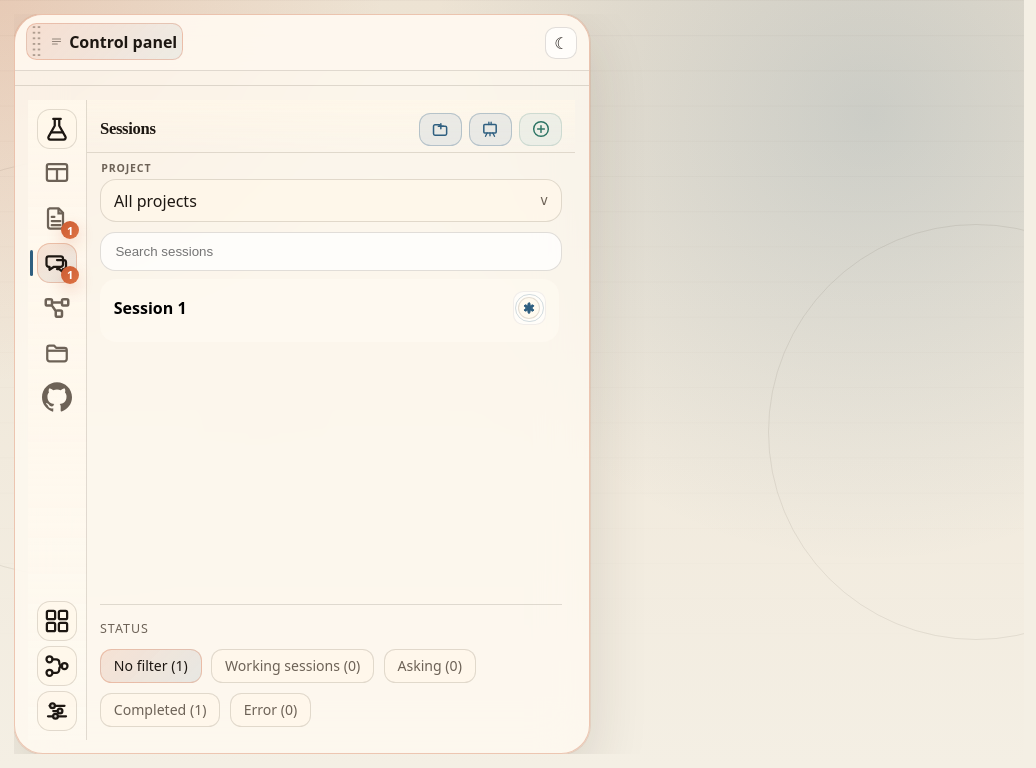
Test: App session lifecycle › arms the active-prompt poll and adopts a replacement-instance recovery state when a successful send response is stale
Click the button "Session 1" at (150, 308), box [100,279,559,342]
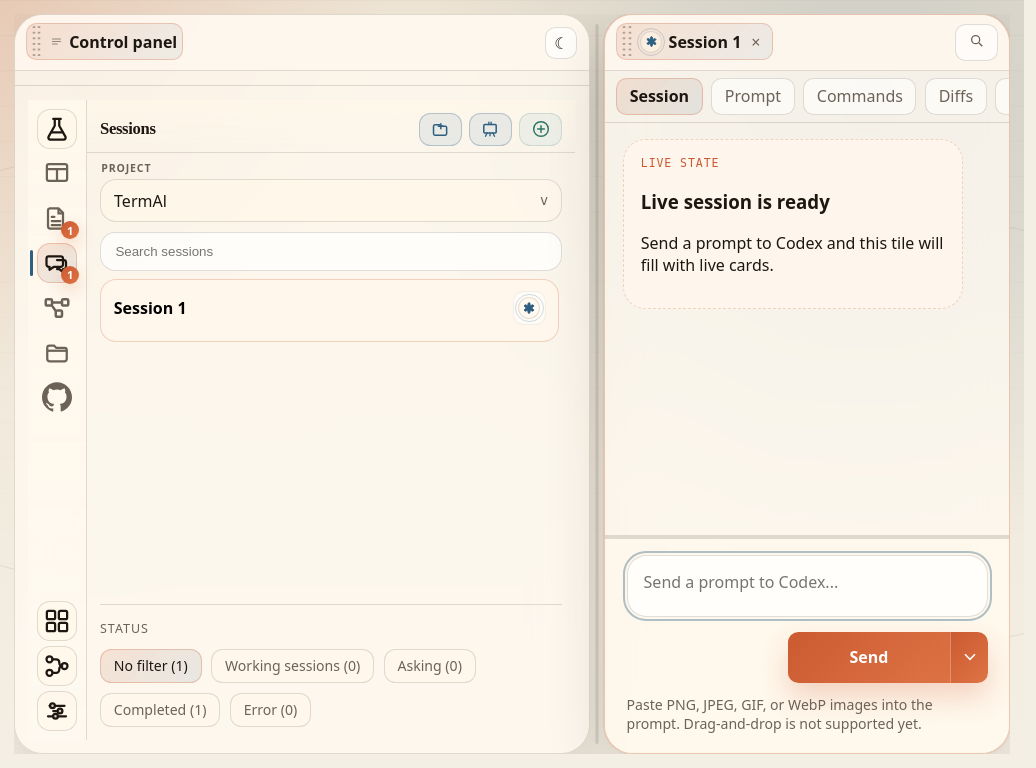
Type "Recover this prompt" into the text box named "Message Session 1" at (807, 586), box [627,555,988,617]
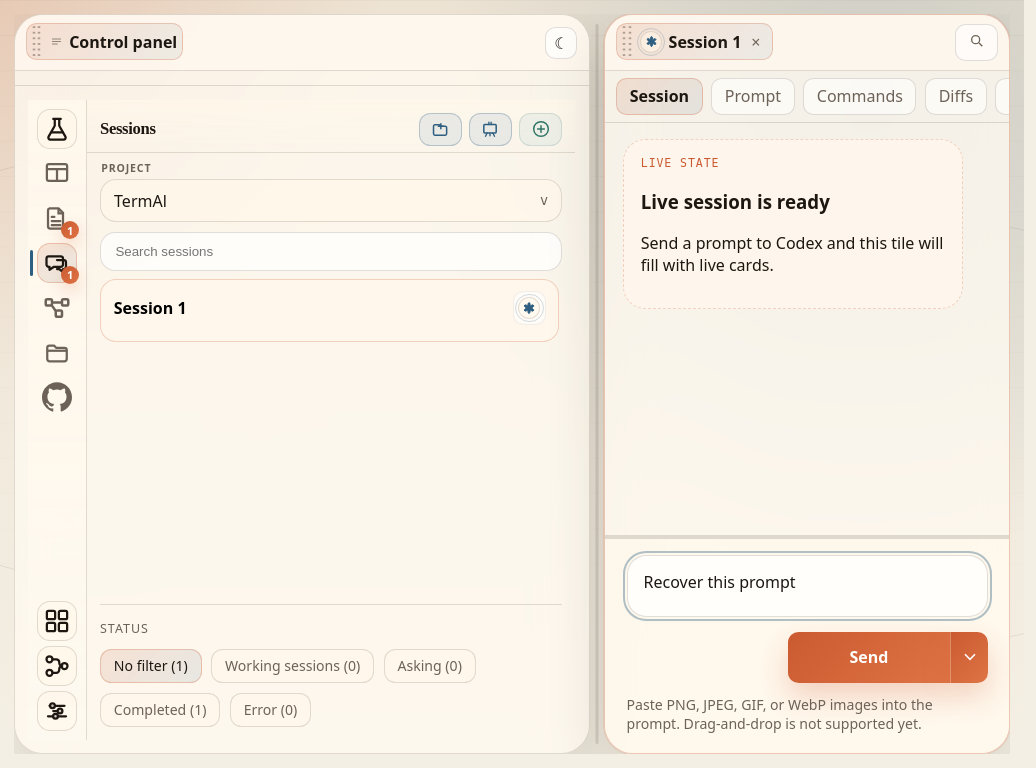
Click the button "Send" at (869, 657), box [788,632,950,683]
Wait 30012 ms
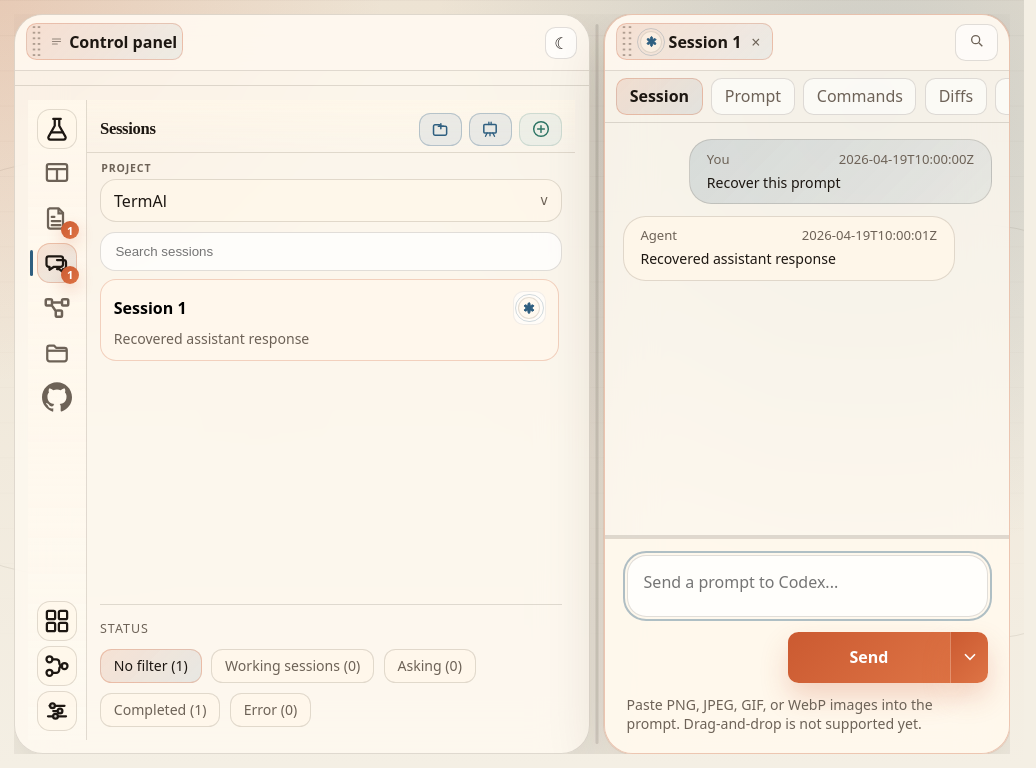
Expected: the text "Recover this prompt" is shown, [707,173,840,192]
Expected: the text box named "Message Session 1" is empty, [627,555,988,617]
Expected: the text "Recovered assistant response" below "Project" is shown, [114,329,309,348]
